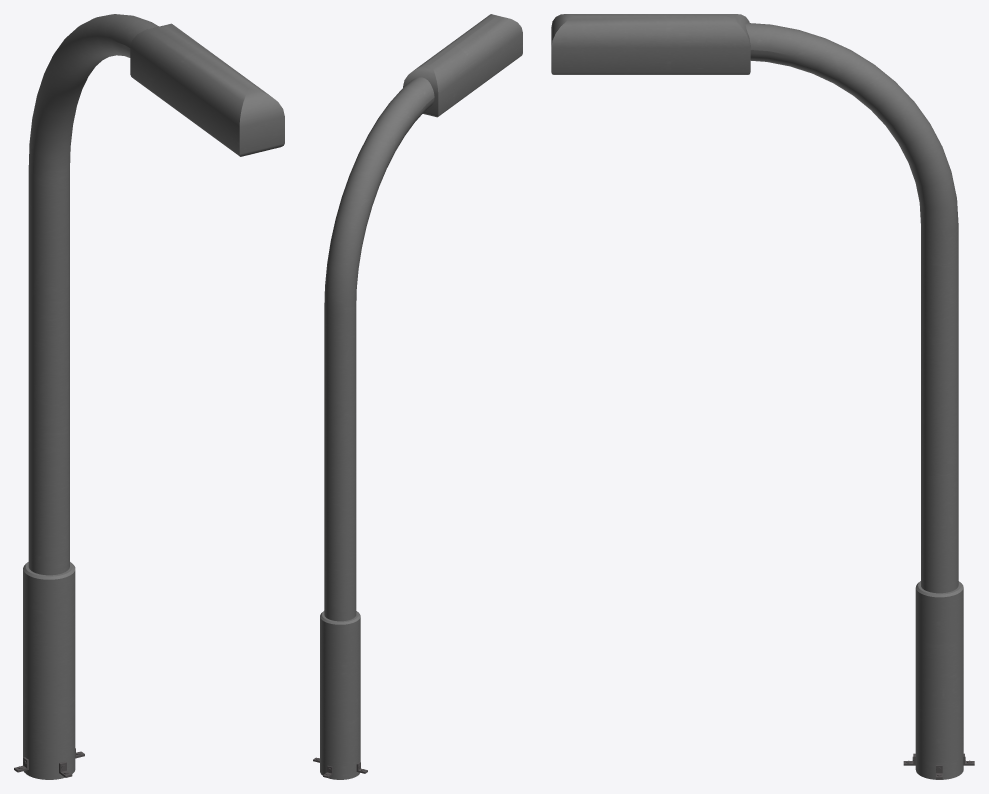
The model's file is street_light.fbx.
3 views of the same model, side by side, from view 1: azimuth 30°, elevation 25°; view 2: azimuth 150°, elevation 25°; view 3: azimuth 270°, elevation 25° (orthographic). The views are drawn at different scales.
Parts seen in each view (by area): view 1: bake; view 2: bake; view 3: bake.
Part boxes in pixels (x1,y1,x2,y2): bake: [14, 14, 284, 779]; bake: [313, 14, 522, 779]; bake: [551, 14, 974, 779].
Size of the model in its own units: 71.18 by 835 by 425.
1 material, 1 textured.
